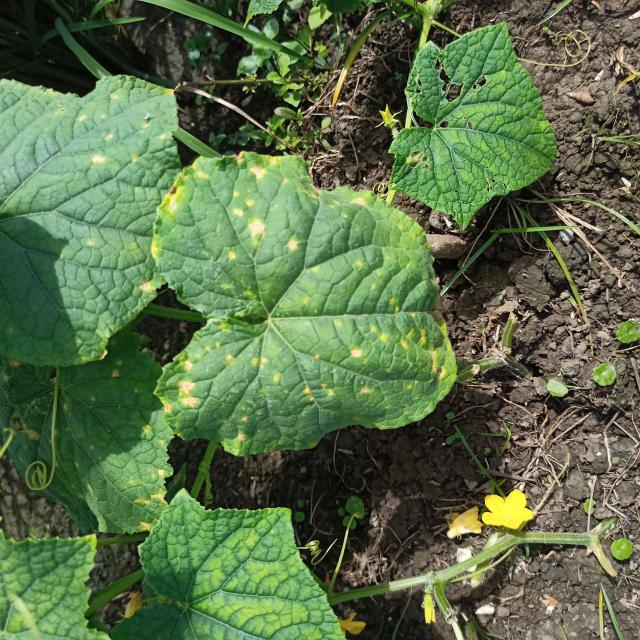disease_cucumber: (162, 156, 447, 441), (30, 354, 166, 530), (67, 90, 171, 171)
